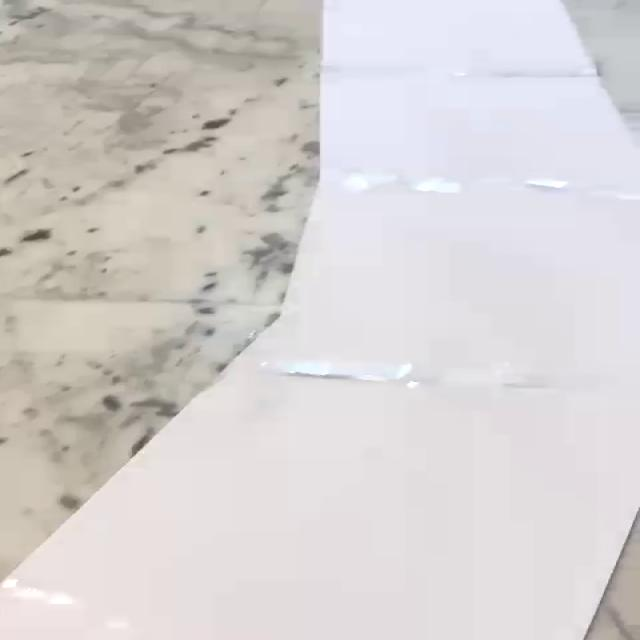road: (0, 0, 640, 640)
